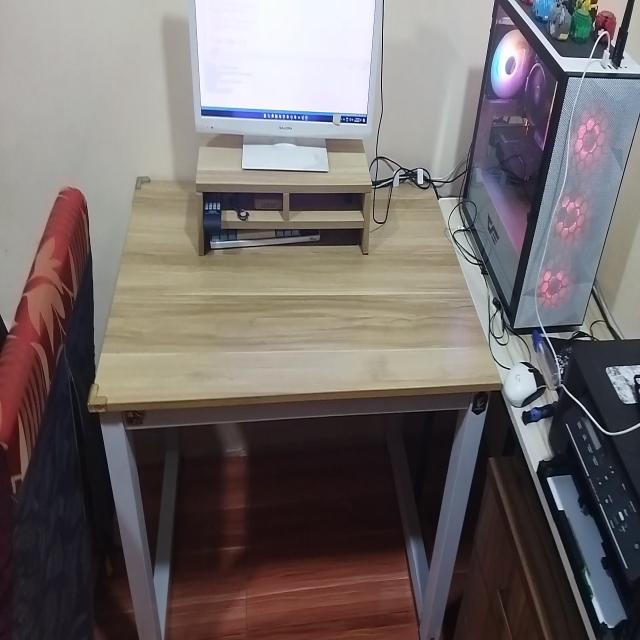table: (88, 166, 496, 640)
